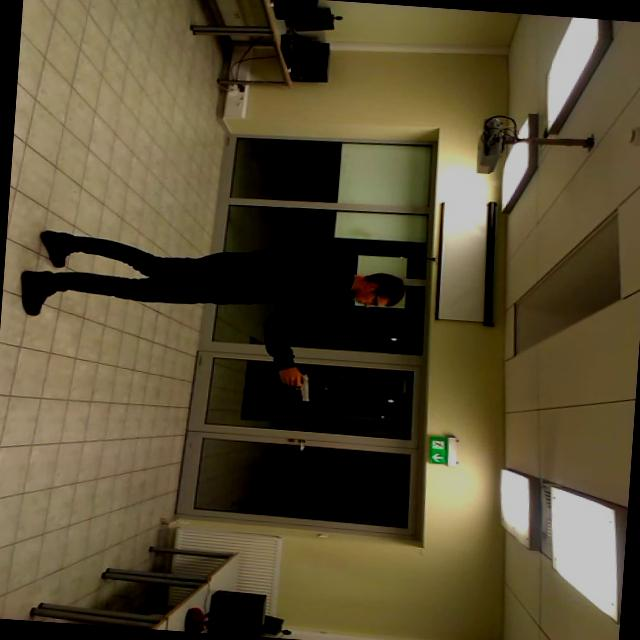handgun: (258, 362, 328, 412)
